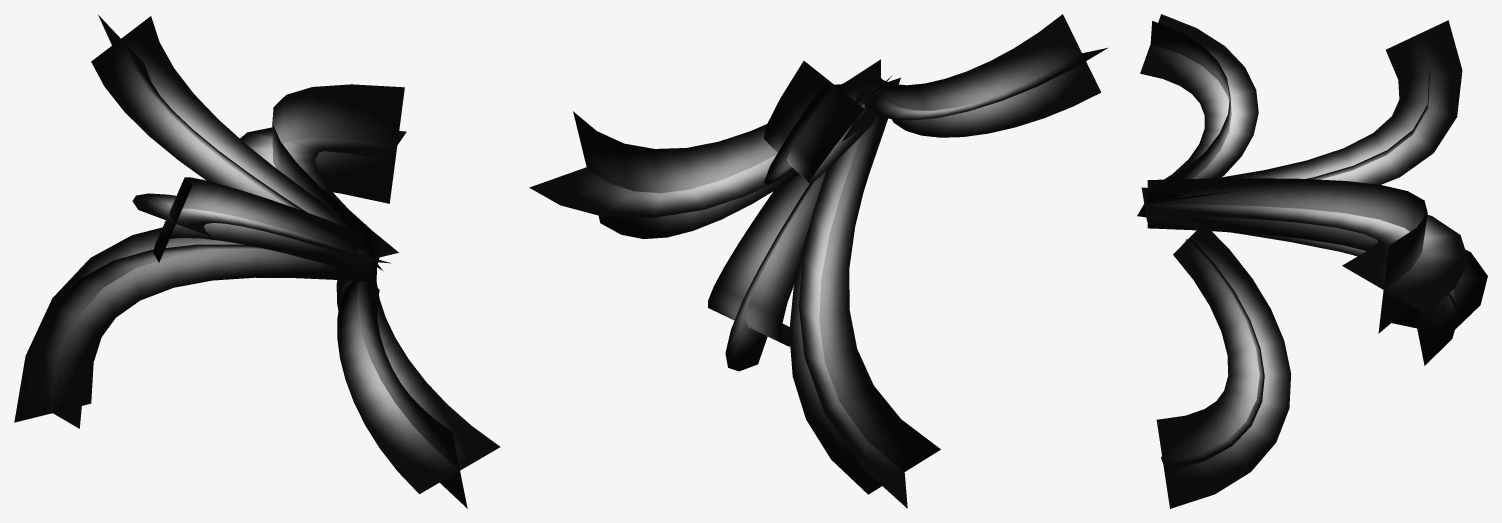
Rendered from vfx_kurp_0459.dae.
3 views of the same model, side by side, from view 1: azimuth 30°, elevation 25°; view 2: azimuth 150°, elevation 25°; view 3: azimuth 270°, elevation 25° (orthographic). The views are drawn at different scales.
Visible parts, largest first — view 1: vfx_kurp_0459; view 2: vfx_kurp_0459; view 3: vfx_kurp_0459.
Boxes of the visible parts, x1,y1,x2,y2 form: vfx_kurp_0459: (14, 15, 499, 508); vfx_kurp_0459: (529, 14, 1108, 508); vfx_kurp_0459: (1137, 14, 1487, 508).
Bounding box in the file's own units: 10.49 × 8.5 × 10.58.
Materials: 1 (1 with a texture image).
